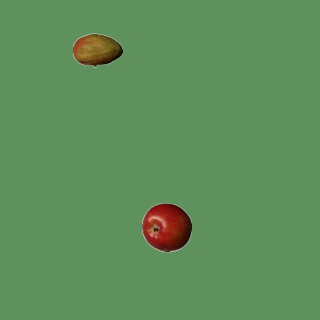Apple Braeburn: (141, 202, 191, 252)
Papaya: (72, 25, 122, 75)
